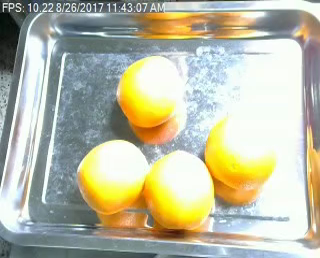Orange: (142, 149, 214, 229), (204, 115, 278, 190), (75, 139, 148, 214), (114, 56, 183, 127)
